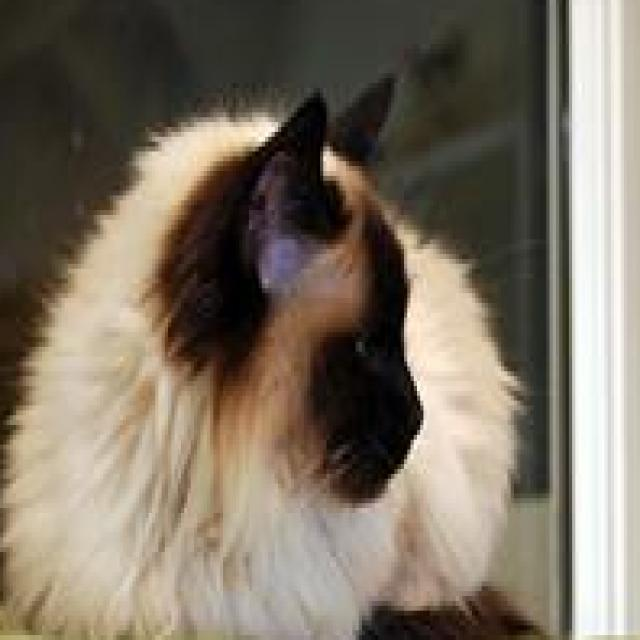Birman: (0, 68, 546, 639)
